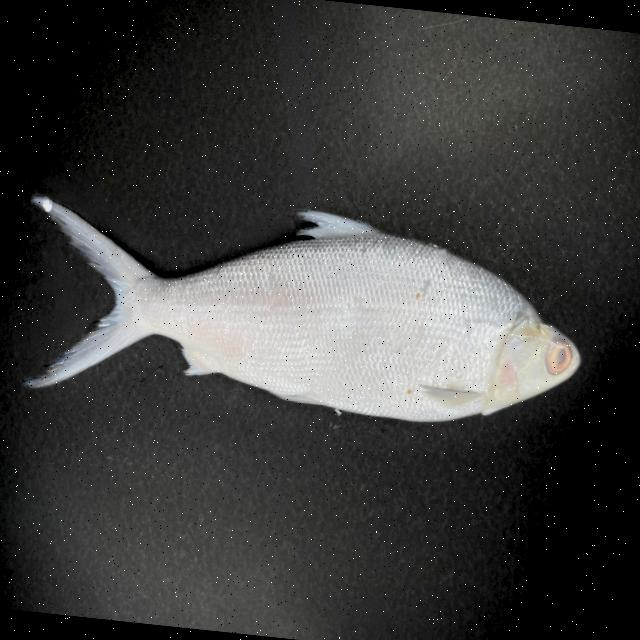1050 g: (10, 180, 592, 442)
